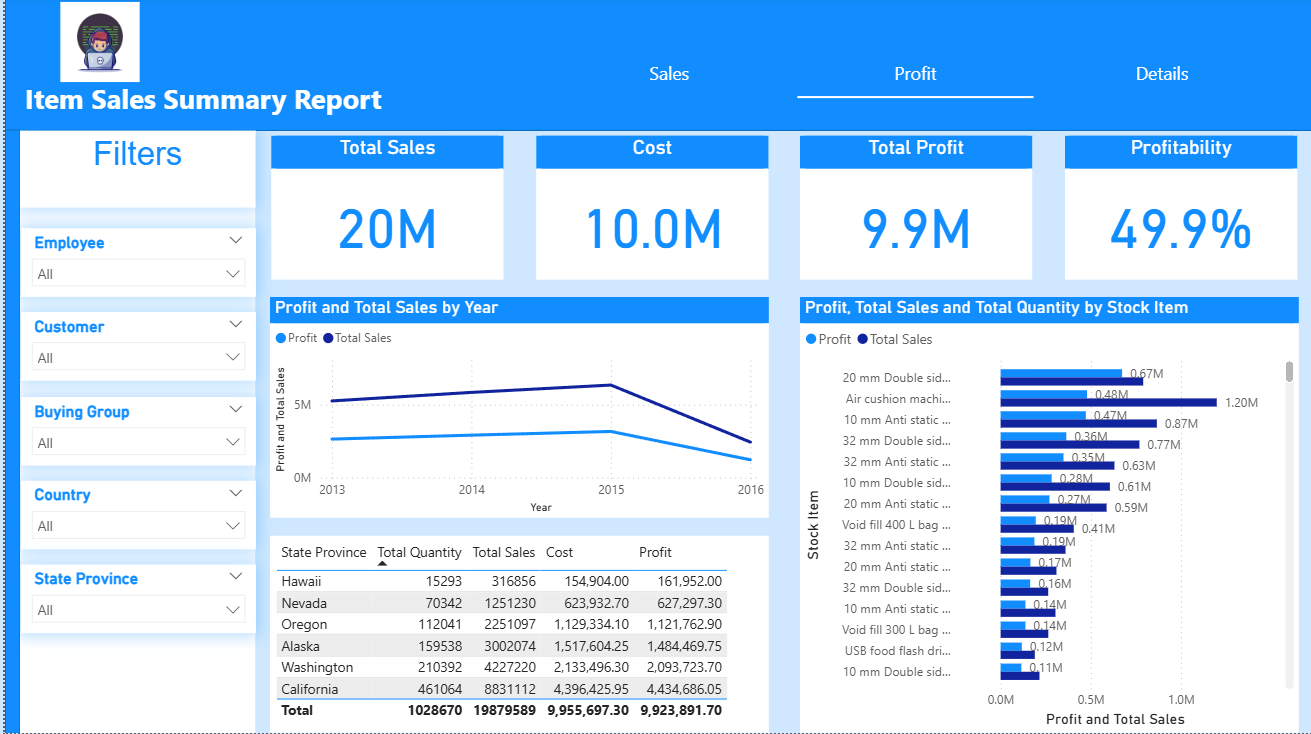

The dashboard page shown, as its layout file describes it:
{"tool":"powerbi","page":{"name":"Profit","canvas":[1280,720],"ordinal":1},"visuals":[{"type":"shape","box":[0,0,1280,131],"z":0},{"type":"shape","box":[0,129.3,15.1,591.3],"z":1000},{"type":"shape","box":[15.1,131,230.1,589.6],"z":2000},{"type":"textbox","title":"dsadsad","box":[15.1,131,230.1,75.6],"z":3000},{"type":"textbox","box":[15.1,75.6,414.9,53.8],"z":4000},{"type":"card","title":"Total Sales","fields":{"Values":["Sum(FactSale.Total Excluding Tax)"]},"box":[260.6,135.4,227.5,141.1],"z":6000},{"type":"card","title":"Cost","fields":{"Values":["FactSale.Cost"]},"box":[519.4,135.4,227.5,141.1],"z":7000},{"type":"card","title":"Total Profit","fields":{"Values":["Sum(FactSale.Profit)"]},"box":[778.1,135.4,227.5,141.1],"z":8000},{"type":"card","title":"Profitability","fields":{"Values":["FactSale.Profitability"]},"box":[1036.8,135.4,227.5,141.1],"z":9000},{"type":"lineChart","fields":{"Category":["DimDate.Date.Variation.Date Hierarchy.Year","DimDate.Date.Variation.Date Hierarchy.Quarter","DimDate.Date.Variation.Date Hierarchy.Month","DimDate.Date.Variation.Date Hierarchy.Day"],"Y":["Sum(FactSale.Profit)","Sum(FactSale.Total Excluding Tax)"]},"box":[259.2,293.8,488.2,216],"z":10000},{"type":"clusteredBarChart","fields":{"Y":["Sum(FactSale.Profit)","Sum(FactSale.Total Excluding Tax)"],"Category":["DimStockItem.Stock Item"]},"box":[777.6,293.8,488.2,426.2],"z":11000},{"type":"tableEx","fields":{"Values":["DimCity.State Province","Sum(FactSale.Quantity)","Sum(FactSale.Total Excluding Tax)","FactSale.Cost","Sum(FactSale.Profit)"]},"box":[259.2,527,488.2,193],"z":12000},{"type":"slicer","fields":{"Values":["DimEmployee.Employee"]},"box":[15.5,226,229.4,67.3],"z":13000},{"type":"slicer","fields":{"Values":["DimCustomer.Customer"]},"box":[15.5,308.4,229.4,67.3],"z":14000},{"type":"slicer","fields":{"Values":["DimCustomer.Buying Group"]},"box":[15.5,390.7,229.4,67.3],"z":15000},{"type":"slicer","fields":{"Values":["DimCity.Country"]},"box":[15.5,473.1,229.4,67.3],"z":16000},{"type":"slicer","fields":{"Values":["DimCity.State Province"]},"box":[15.5,555.5,229.4,67.3],"z":17000},{"type":"pageNavigator","box":[534.2,49,714.2,50.4],"z":18000},{"type":"image","box":[29.3,0,127.2,88],"z":18001}]}

Visuals, with their boxes in screenshot pixels (x1, y1, x2, y2), scaled from the page's 1280x720 canvas onto the 1311x734 screenshot:
shape: <region>0, 0, 1310, 134</region>
shape: <region>0, 132, 15, 733</region>
shape: <region>15, 134, 251, 733</region>
"dsadsad" textbox: <region>15, 134, 251, 211</region>
textbox: <region>15, 77, 440, 132</region>
"Total Sales" card: <region>267, 138, 500, 282</region>
"Cost" card: <region>532, 138, 765, 282</region>
"Total Profit" card: <region>797, 138, 1030, 282</region>
"Profitability" card: <region>1062, 138, 1295, 282</region>
lineChart - DimDate.Date.Variation.Date Hierarchy.Year x DimDate.Date.Variation.Date Hierarchy.Quarter: <region>265, 300, 766, 520</region>
clusteredBarChart - Sum(FactSale.Profit) x Sum(FactSale.Total Excluding Tax): <region>796, 300, 1296, 733</region>
tableEx - DimCity.State Province x Sum(FactSale.Quantity): <region>265, 537, 766, 733</region>
slicer - DimEmployee.Employee: <region>16, 230, 251, 299</region>
slicer - DimCustomer.Customer: <region>16, 314, 251, 383</region>
slicer - DimCustomer.Buying Group: <region>16, 398, 251, 467</region>
slicer - DimCity.Country: <region>16, 482, 251, 551</region>
slicer - DimCity.State Province: <region>16, 566, 251, 635</region>
pageNavigator: <region>547, 50, 1279, 101</region>
image: <region>30, 0, 160, 90</region>
